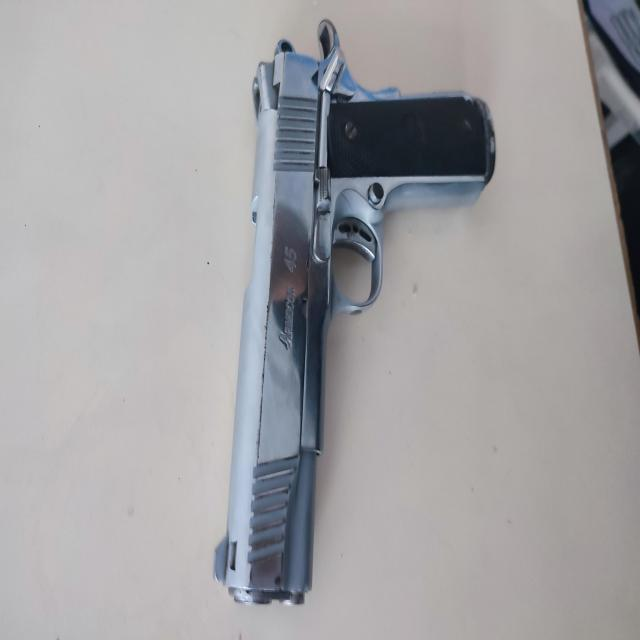pistol: (182, 19, 498, 604)
